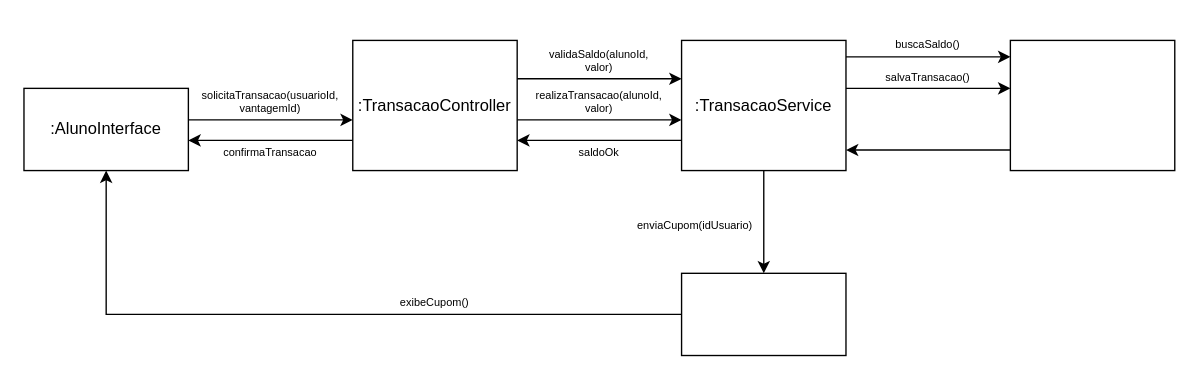
Some shapes in this 1199 by 379 pixel diagram are drawn without their labels. Each missing label, with the centre of its shape:
":EmailService" goes at point (763, 314).
":SGBD" goes at point (1092, 105).
